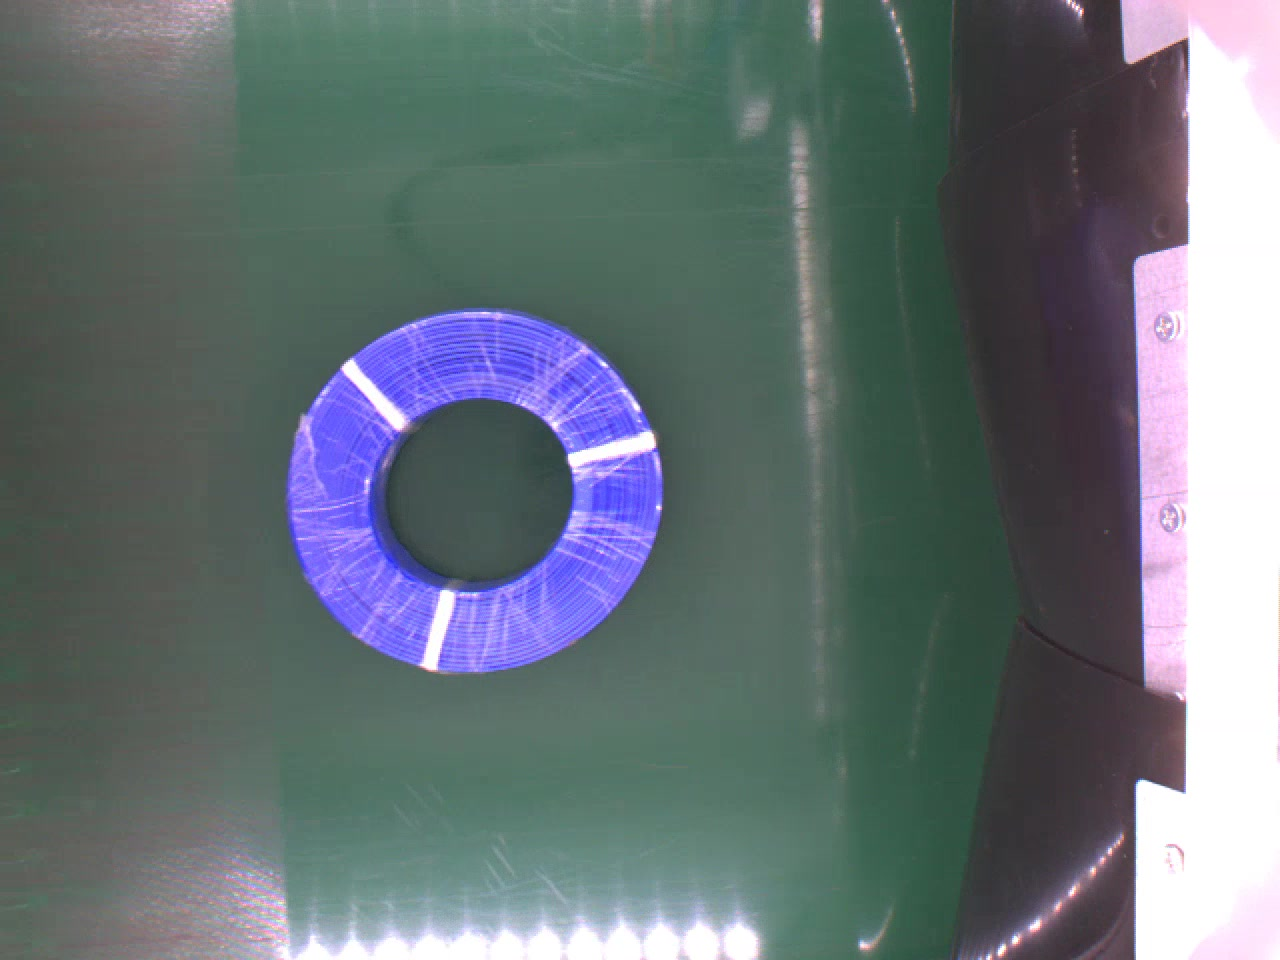blue: (283, 304, 663, 675)
